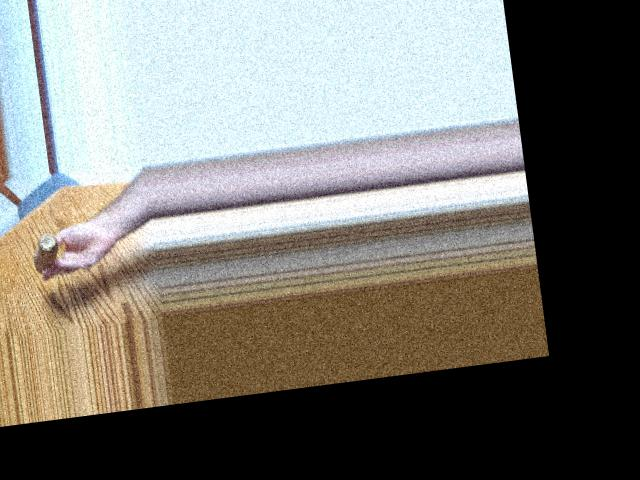sweet_potato: (29, 226, 68, 275)
